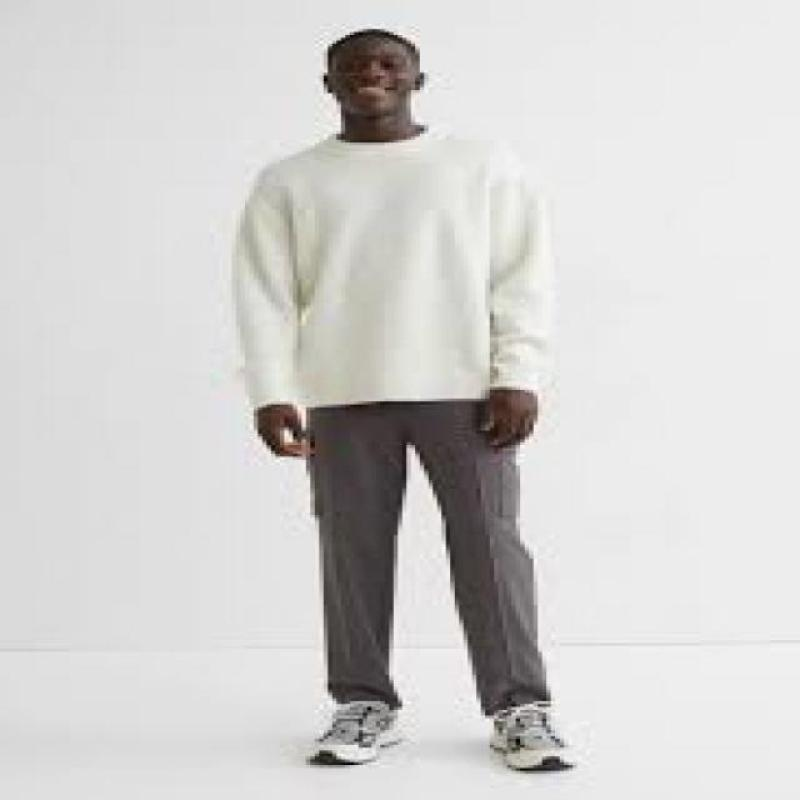sweater: (226, 130, 557, 415)
trousers: (300, 399, 555, 710)
